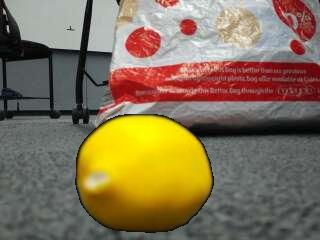lemon: (77, 114, 210, 231)
